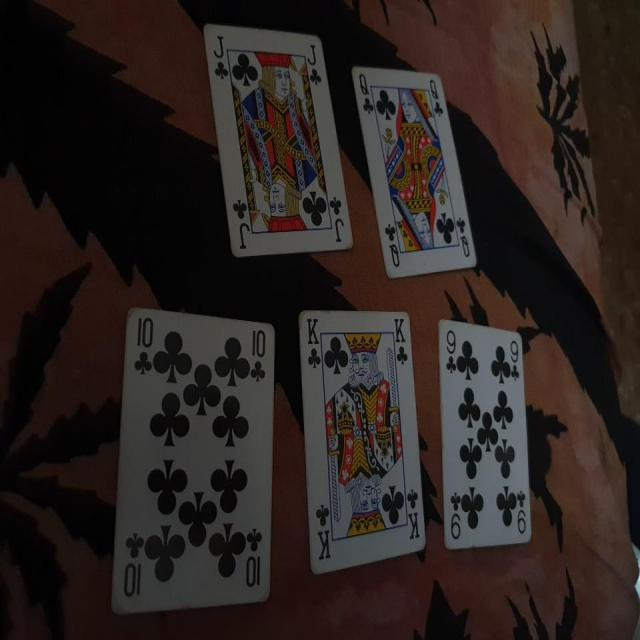10 of clubs: (105, 303, 275, 616)
9 of clubs: (436, 316, 534, 546)
jack of clubs: (202, 21, 356, 262)
king of clubs: (299, 307, 429, 577)
queen of clubs: (350, 65, 480, 278)
